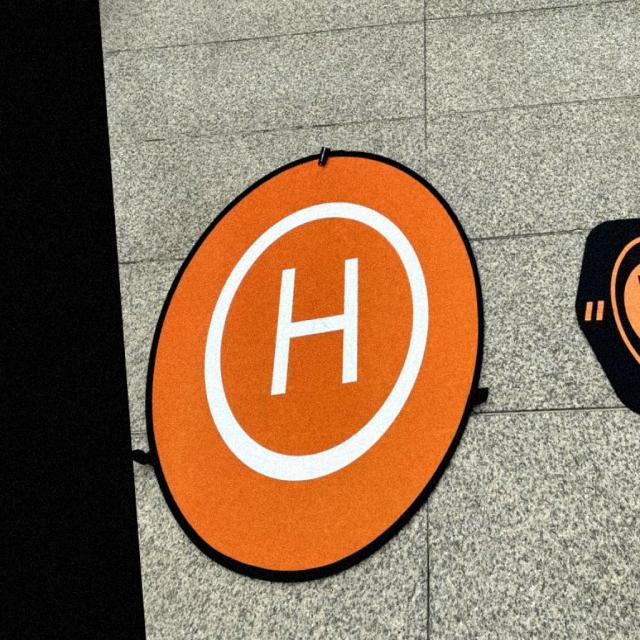helipad: (198, 196, 434, 484)
